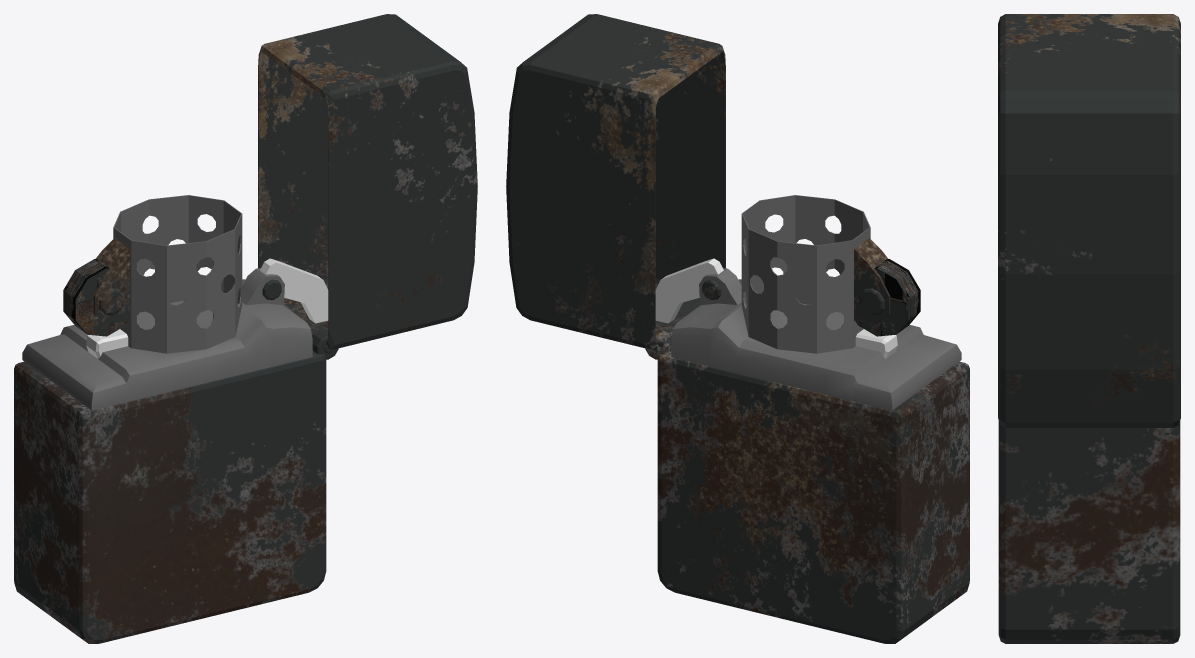
File: Feuerzeug_Baked.fbx
3 views of the same model, side by side, from view 1: azimuth 30°, elevation 25°; view 2: azimuth 150°, elevation 25°; view 3: azimuth 270°, elevation 25° (orthographic). The views are drawn at different scales.
Parts seen in each view (by area): view 1: Feuerzeug 8, Feuerzeug 9, Feuerzeug 1.001, Feuerzeug 1, Feuerzeug 6, Feuerzeug 10, Feuerzeug 4, Feuerzeug 5, Feuerzeug 7; view 2: Feuerzeug 8, Feuerzeug 9, Feuerzeug 1.001, Feuerzeug 1, Feuerzeug 6, Feuerzeug 10, Feuerzeug 4, Feuerzeug 5, Feuerzeug 7; view 3: Feuerzeug 9, Feuerzeug 8.
Part boxes in pixels (x1,y1,x2,y2): Feuerzeug 8: (14, 351, 326, 643); Feuerzeug 9: (258, 14, 477, 349); Feuerzeug 1.001: (113, 195, 242, 353); Feuerzeug 1: (22, 268, 312, 410); Feuerzeug 6: (63, 259, 128, 336); Feuerzeug 10: (260, 258, 328, 323); Feuerzeug 4: (93, 238, 129, 322); Feuerzeug 5: (99, 279, 331, 352); Feuerzeug 7: (86, 329, 128, 358); Feuerzeug 8: (657, 351, 969, 643); Feuerzeug 9: (506, 14, 725, 349); Feuerzeug 1.001: (741, 195, 870, 353); Feuerzeug 1: (671, 268, 961, 410); Feuerzeug 6: (855, 259, 920, 336); Feuerzeug 10: (655, 258, 723, 323); Feuerzeug 4: (854, 238, 890, 322); Feuerzeug 5: (652, 279, 884, 352); Feuerzeug 7: (855, 329, 897, 358); Feuerzeug 9: (998, 14, 1180, 427); Feuerzeug 8: (998, 421, 1180, 643).
Size of the model in its own units: 0.4591 by 0.5464 by 0.1411.
3 materials, 1 textured.
